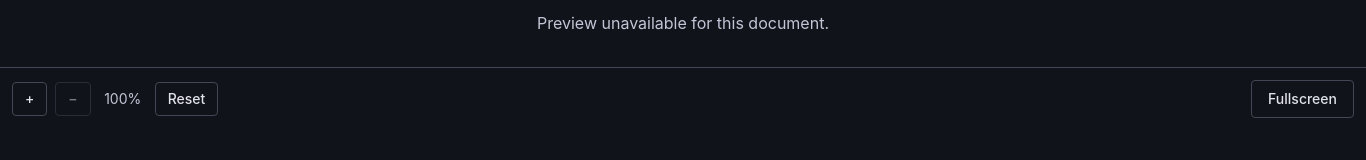
Test: SourceDocumentPreview — return to default view (026-pdf-preview-zoom-pan US3) › resets to exactly 100% in one click from any zoom level
This screenshot has width=1366, height=160.
What coordinates should you click on to do the following:
click the button with test id "source-preview-zoom-in"
I would click on:
 (30, 99)
Its box is [12, 82, 47, 116].
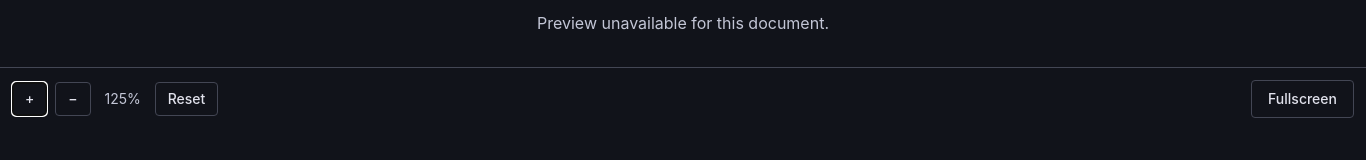
What coordinates should you click on to do the following:
click the button with test id "source-preview-zoom-in"
I would click on:
 (30, 99)
Its box is [12, 82, 47, 116].
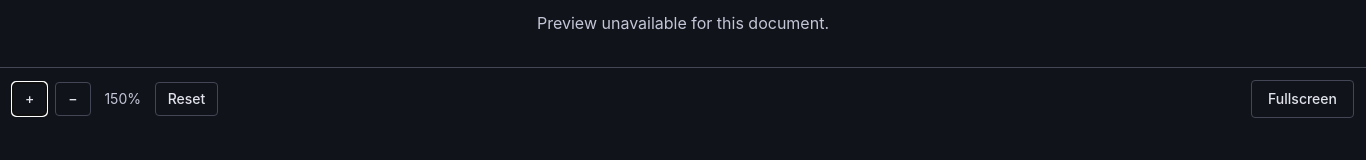
What coordinates should you click on to do the following:
click the button with test id "source-preview-zoom-in"
I would click on:
 (30, 99)
Its box is [12, 82, 47, 116].
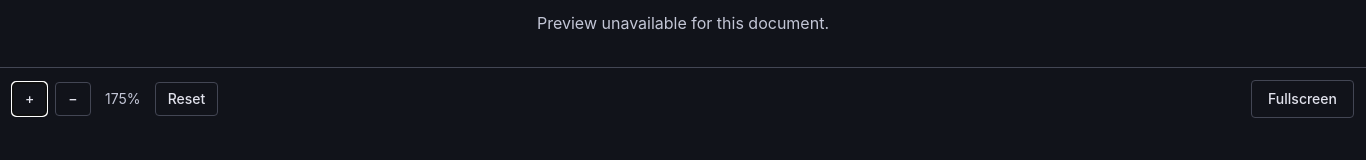
Expected: the text with test id "source-preview-zoom-level" reads "175%", [105, 90, 140, 107]
What coordinates should you click on to do the following:
click the button with test id "source-preview-zoom-reset"
I would click on:
 (186, 99)
Its box is [155, 82, 218, 116].
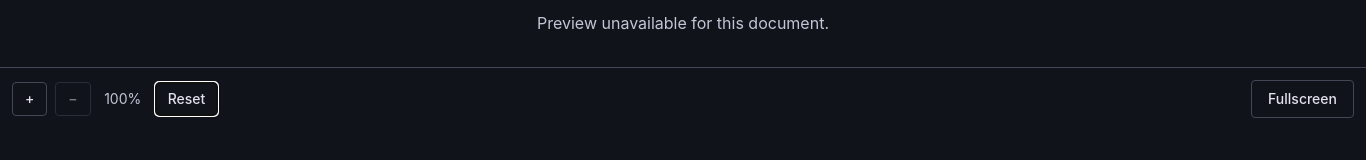
Expected: the text with test id "source-preview-zoom-level" reads "100%", [104, 90, 141, 107]
